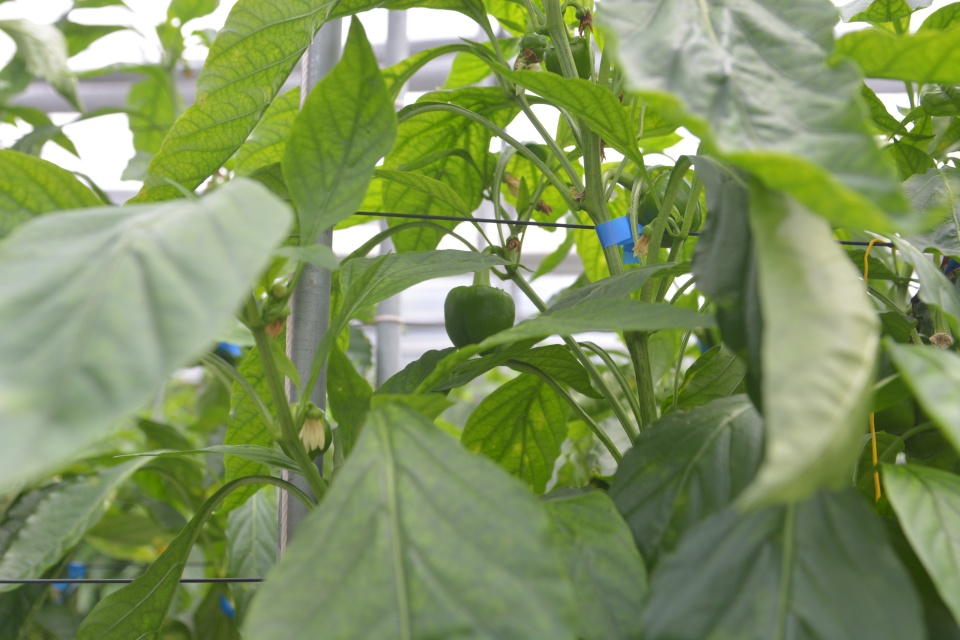flower: (297, 416, 327, 454)
fruit: (868, 392, 948, 459)
immature: (624, 167, 704, 249), (442, 283, 517, 358)
